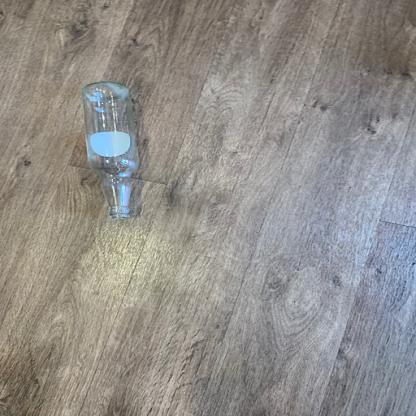trash: (76, 82, 149, 221)
